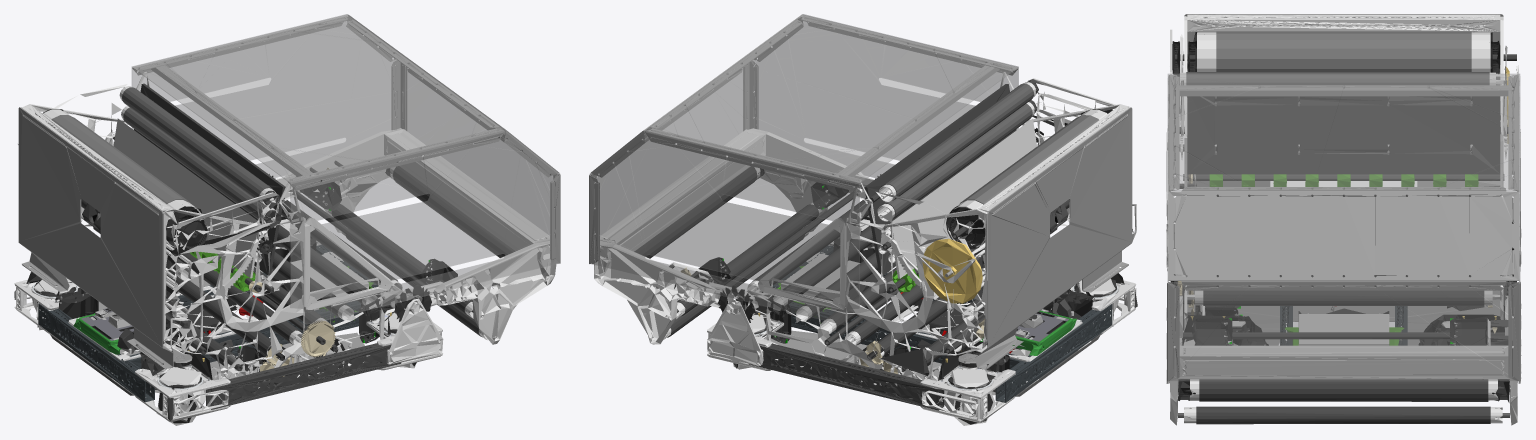
The model's file is robot_reblitz.glb.
3 renders of one model, left to right at view 1: azimuth 30°, elevation 25°; view 2: azimuth 150°, elevation 25°; view 3: azimuth 270°, elevation 25°, orthographic. The views are drawn at different scales.
Visible parts, largest first — view 1: clear_42, body_20, body_36, body_12, body_35, body_7, hood_46, body_10, hood_47, hood_48, body_11, body_31 (+4 smaller); view 2: clear_42, body_20, body_36, body_12, body_35, hood_46, body_7, body_10, body_37, hood_47, hood_48, body_11 (+4 smaller); view 3: clear_42, body_20, body_12, body_36, hood_47, body_7, hood_46, body_35, hood_48, body_13, body_10, hood_43.
Part boxes in pixels (x1,y1,x2,y2): clear_42: [131, 14, 559, 324]; body_20: [18, 15, 560, 397]; body_36: [14, 104, 556, 418]; body_12: [81, 83, 515, 420]; body_35: [14, 72, 545, 422]; body_7: [26, 168, 457, 423]; hood_46: [122, 87, 274, 223]; body_10: [38, 244, 377, 402]; hood_47: [51, 115, 190, 204]; hood_48: [39, 84, 278, 254]; body_11: [121, 271, 270, 365]; body_31: [249, 167, 335, 376]; clear_42: [589, 14, 1018, 324]; body_20: [589, 15, 1132, 401]; body_36: [594, 93, 1136, 419]; body_12: [634, 84, 1137, 410]; body_35: [603, 72, 1136, 422]; hood_46: [881, 83, 1033, 219]; body_7: [695, 128, 1124, 424]; body_10: [772, 245, 1112, 402]; body_37: [922, 238, 982, 303]; hood_47: [959, 115, 1098, 204]; hood_48: [876, 78, 1116, 300]; body_11: [877, 274, 1071, 365]; clear_42: [1167, 73, 1520, 381]; body_20: [1167, 14, 1520, 381]; body_12: [1174, 96, 1513, 424]; body_36: [1166, 14, 1521, 425]; hood_47: [1216, 31, 1471, 71]; body_7: [1170, 275, 1516, 402]; hood_46: [1186, 72, 1489, 103]; body_35: [1166, 80, 1520, 374]; hood_48: [1170, 29, 1507, 158]; body_13: [1209, 174, 1478, 189]; body_10: [1280, 306, 1407, 345]; hood_43: [1174, 32, 1500, 74].
Bounding box in the file's own units: 0.9948 × 0.5535 × 0.7062.
